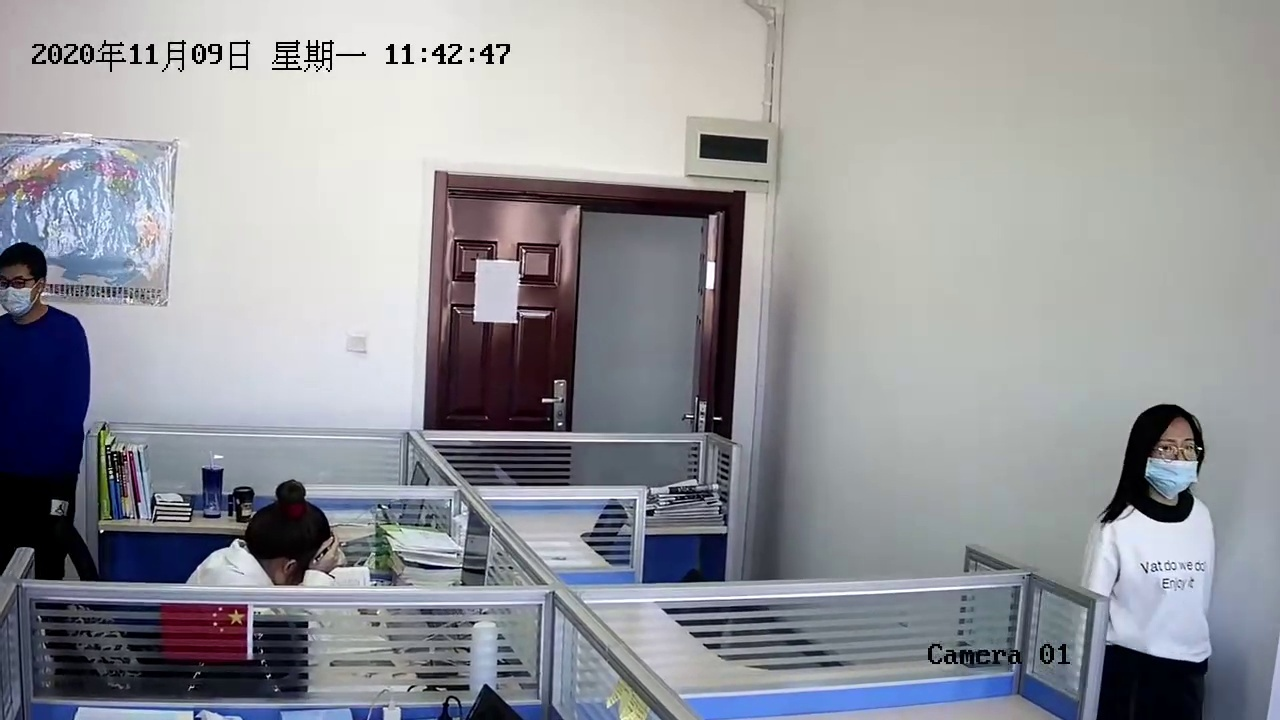mask: (1127, 406, 1203, 503), (4, 249, 44, 317)
